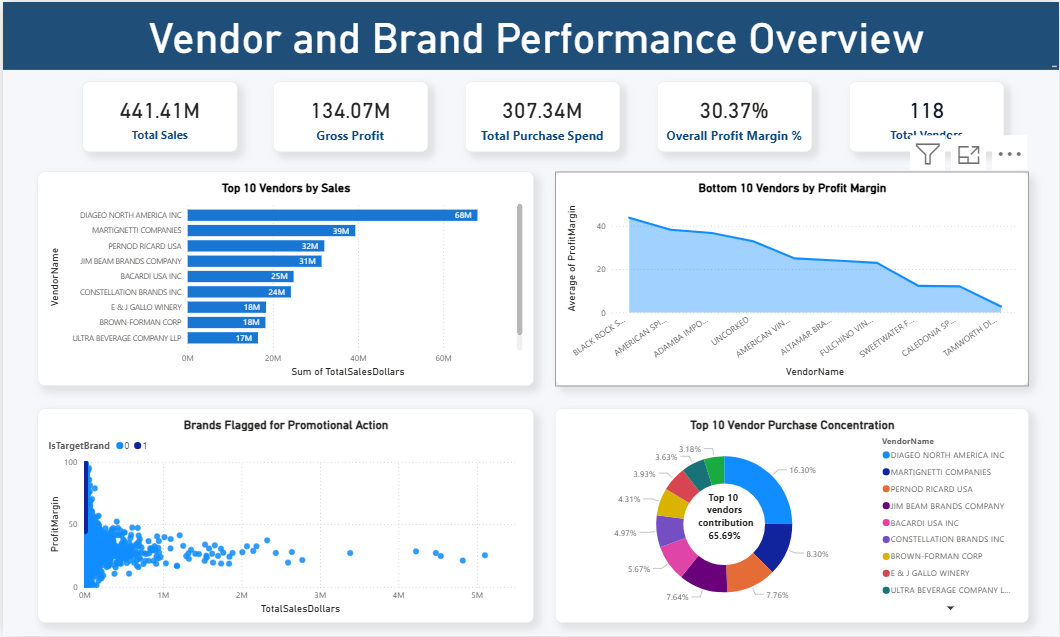

What the dashboard file says about the page in this screenshot:
{"tool":"powerbi","page":{"name":"vendor & brand performance overview","canvas":[1500,900],"ordinal":0},"visuals":[{"type":"card","fields":{"Values":["Sum(vendor_sales_summary.TotalSalesDollars)"]},"box":[112,112,220,100],"z":0},{"type":"card","fields":{"Values":["Sum(vendor_sales_summary.GrossProfit)"]},"box":[384,112,220,100],"z":1000},{"type":"card","fields":{"Values":["Sum(vendor_sales_summary.TotalPurchaseDollars)"]},"box":[656,112,220,100],"z":2000},{"type":"card","fields":{"Values":["vendor_sales_summary.Over Profit Margin %"]},"box":[928,112,220,100],"z":3000},{"type":"card","fields":{"Values":["vendor_sales_summary.Total Vendors"]},"box":[1200,112,220,100],"z":4000},{"type":"clusteredBarChart","title":"Top 10 Vendors by Sales","fields":{"Category":["vendor_sales_summary.VendorName"],"Y":["Sum(vendor_sales_summary.TotalSalesDollars)"]},"box":[48,240,704,304],"z":5000},{"type":"areaChart","title":"Bottom 10 Vendors by Profit Margin","fields":{"Y":["Avg(vendor_sales_summary.ProfitMargin)"],"Category":["vendor_sales_summary.VendorName"]},"box":[784,240,672,304],"z":6000},{"type":"scatterChart","title":"Brands Flagged for Promotional Action","fields":{"X":["vendor_sales_summary.TotalSalesDollars"],"Y":["vendor_sales_summary.ProfitMargin"],"Series":["vendor_sales_summary.IsTargetBrand"]},"box":[48,576,704,304],"z":7000},{"type":"donutChart","title":"Top 10 Vendor Purchase Concentration","fields":{"Category":["vendor_sales_summary.VendorName"],"Y":["vendor_sales_summary.Purchase Contribution %"]},"box":[784,576,672,304],"z":8000},{"type":"textbox","title":"Vendor And Brand Performance Overview","box":[-4,0,1504,80],"z":9000},{"type":"shape","box":[-4,0,1504,96],"z":10000},{"type":"textbox","title":"Vendor and Brand Performance Overview","box":[12,16,1488,80],"z":11000},{"type":"textbox","box":[960,688,128,96],"z":12000}]}

Visuals, with their boxes in screenshot pixels (x1, y1, x2, y2), scaled from the page's 1500x900 canvas onto the 1060x637 screenshot:
card - Sum(vendor_sales_summary.TotalSalesDollars): {"left": 79, "top": 79, "right": 235, "bottom": 150}
card - Sum(vendor_sales_summary.GrossProfit): {"left": 271, "top": 79, "right": 427, "bottom": 150}
card - Sum(vendor_sales_summary.TotalPurchaseDollars): {"left": 464, "top": 79, "right": 619, "bottom": 150}
card - vendor_sales_summary.Over Profit Margin %: {"left": 656, "top": 79, "right": 811, "bottom": 150}
card - vendor_sales_summary.Total Vendors: {"left": 848, "top": 79, "right": 1003, "bottom": 150}
"Top 10 Vendors by Sales" clusteredBarChart: {"left": 34, "top": 170, "right": 531, "bottom": 385}
"Bottom 10 Vendors by Profit Margin" areaChart: {"left": 554, "top": 170, "right": 1029, "bottom": 385}
"Brands Flagged for Promotional Action" scatterChart: {"left": 34, "top": 408, "right": 531, "bottom": 623}
"Top 10 Vendor Purchase Concentration" donutChart: {"left": 554, "top": 408, "right": 1029, "bottom": 623}
"Vendor And Brand Performance Overview" textbox: {"left": 0, "top": 0, "right": 1059, "bottom": 57}
shape: {"left": 0, "top": 0, "right": 1059, "bottom": 68}
"Vendor and Brand Performance Overview" textbox: {"left": 8, "top": 11, "right": 1059, "bottom": 68}
textbox: {"left": 678, "top": 487, "right": 769, "bottom": 555}
